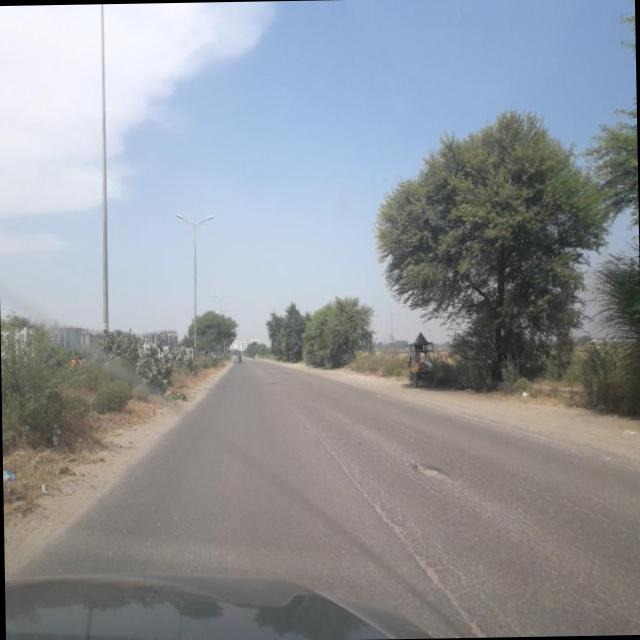crack: (298, 418, 504, 638), (487, 462, 640, 628)
pothole: (412, 457, 454, 481)
